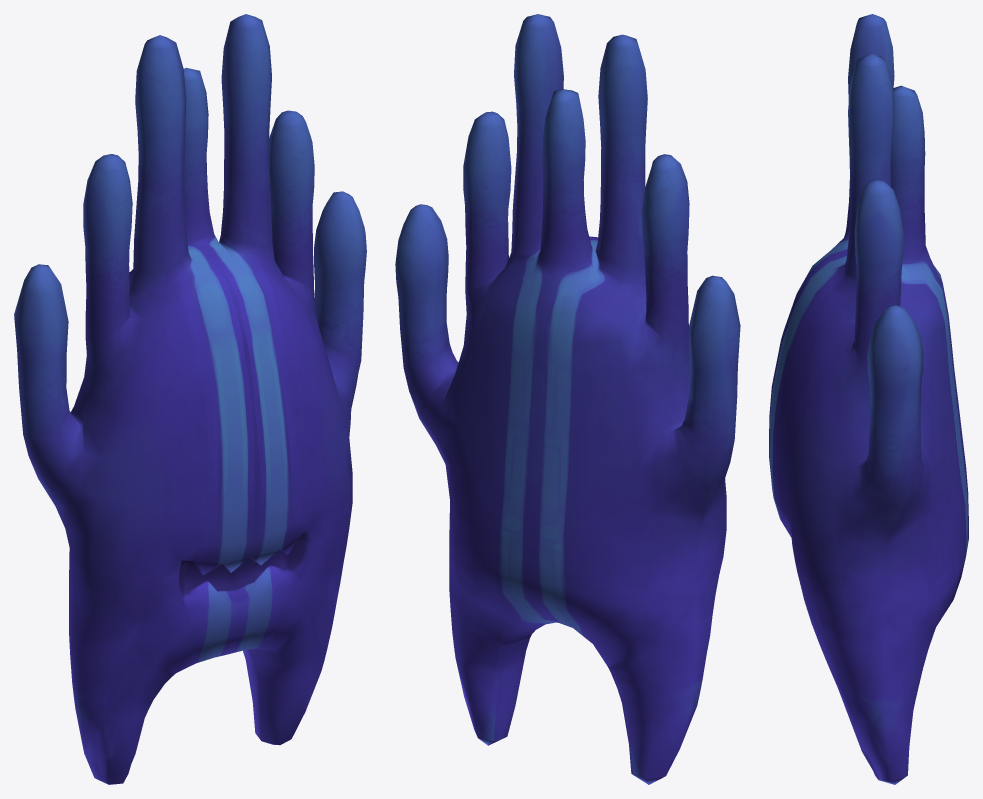
The model's file is baddie_02.fbx.
3 renders of one model, left to right at view 1: azimuth 30°, elevation 25°; view 2: azimuth 150°, elevation 25°; view 3: azimuth 270°, elevation 25°, orthographic. The views are drawn at different scales.
Parts seen in each view (by area): view 1: polySurface13; view 2: polySurface13; view 3: polySurface13.
Boxes of the visible parts, <box> form: polySurface13: <box>14,14,366,784</box>; polySurface13: <box>395,14,740,784</box>; polySurface13: <box>769,14,968,784</box>.
Bounding box in the file's own units: 343 × 713 × 181.
